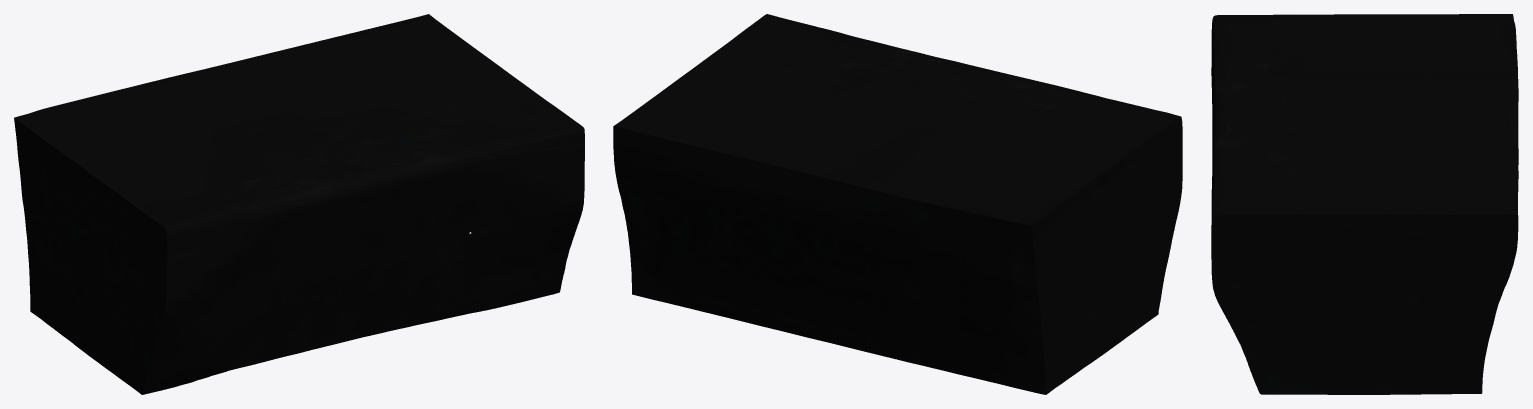
Rendered from subway-car.glb.
The picture shows the model from 3 angles, left to right: view 1: azimuth 30°, elevation 25°; view 2: azimuth 150°, elevation 25°; view 3: azimuth 270°, elevation 25°; orthographic projection.
Visible parts, largest first — view 1: geometry_0; view 2: geometry_0; view 3: geometry_0.
Boxes of the visible parts, x1,y1,x2,y2 form: geometry_0: [14, 14, 584, 394]; geometry_0: [613, 14, 1182, 394]; geometry_0: [1211, 14, 1518, 394].
Size of the model in its own units: 0.9995 by 0.4245 by 0.6457.
1 material, 1 textured.
